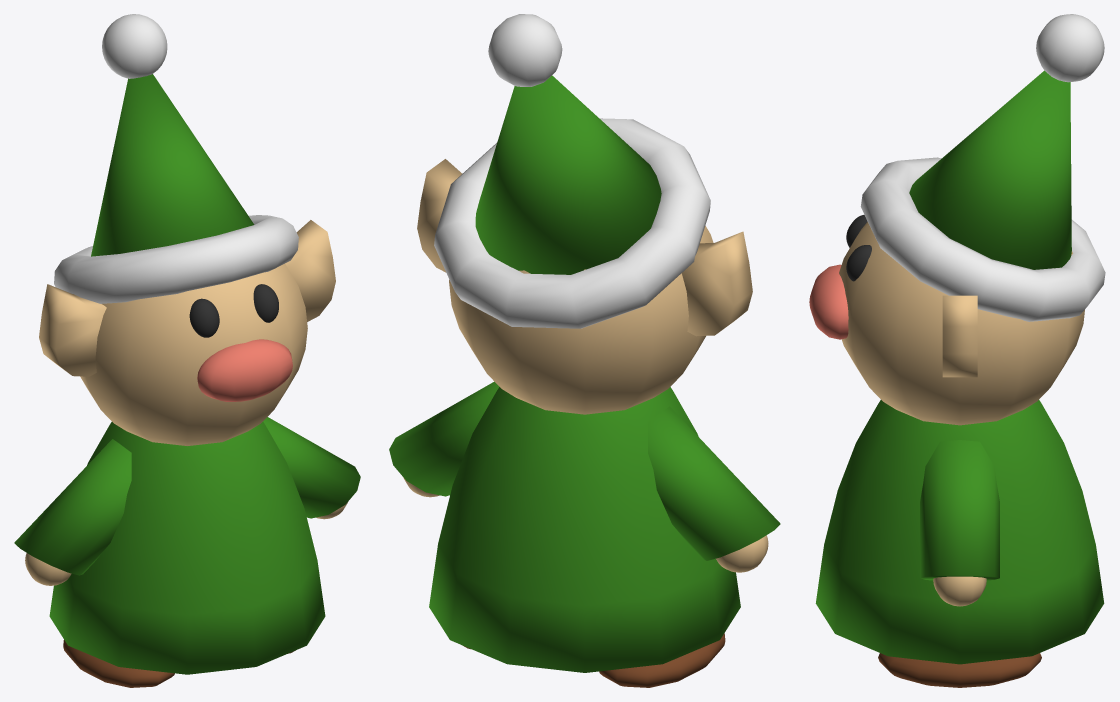
File: duende2.fbx
3 renders of one model, left to right at view 1: azimuth 30°, elevation 25°; view 2: azimuth 150°, elevation 25°; view 3: azimuth 270°, elevation 25°, orthographic. The views are drawn at different scales.
Parts seen in each view (by area): view 1: color, elfo; view 2: color, elfo; view 3: color, elfo.
Part boxes in pixels (x1,y1,x2,y2): color: [14, 74, 360, 674]; elfo: [25, 14, 347, 687]; color: [389, 75, 780, 672]; elfo: [403, 14, 768, 687]; color: [815, 70, 1104, 664]; elfo: [809, 14, 1105, 687].
Size of the model in its own units: 51.47 by 87.96 by 37.65.
